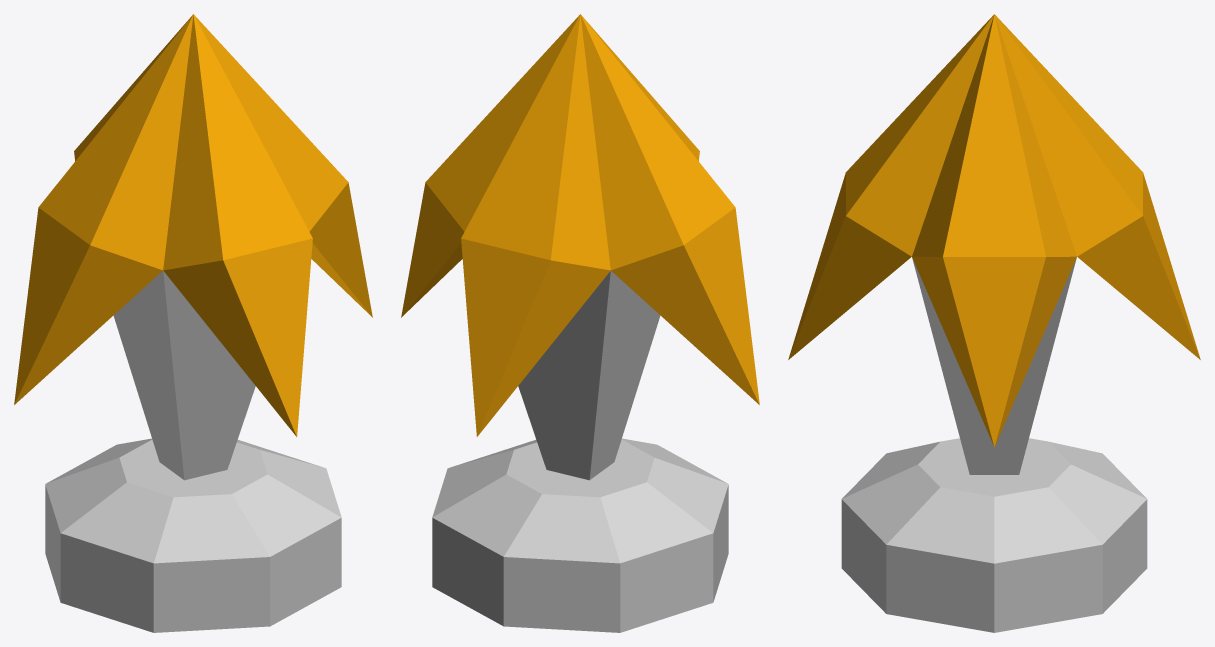
File: item_booster_attack.fbx
3 views of the same model, side by side, from view 1: azimuth 30°, elevation 25°; view 2: azimuth 150°, elevation 25°; view 3: azimuth 270°, elevation 25° (orthographic).
Visible parts, largest first — view 1: Cube; view 2: Cube; view 3: Cube.
Part boxes in pixels (box(x1,y1,x2,y2)): Cube: box(14, 14, 372, 632); Cube: box(401, 14, 759, 632); Cube: box(788, 14, 1200, 632).
Size of the model in its own units: 270 by 400 by 270.
